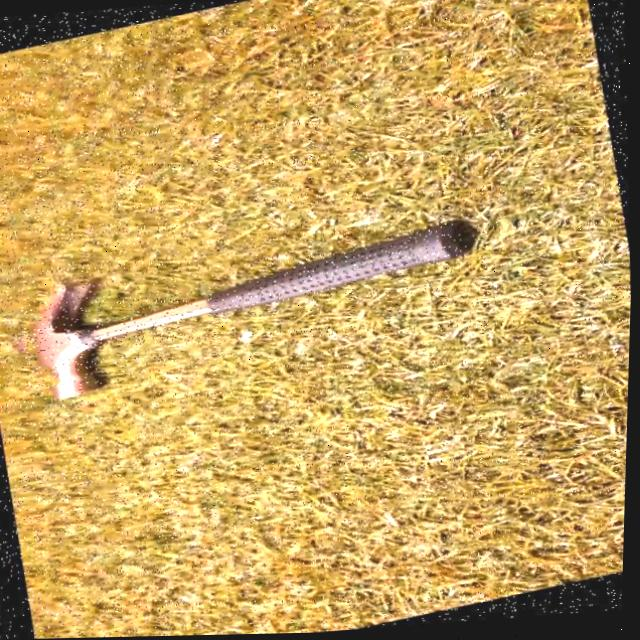hammer: (18, 188, 485, 409)
